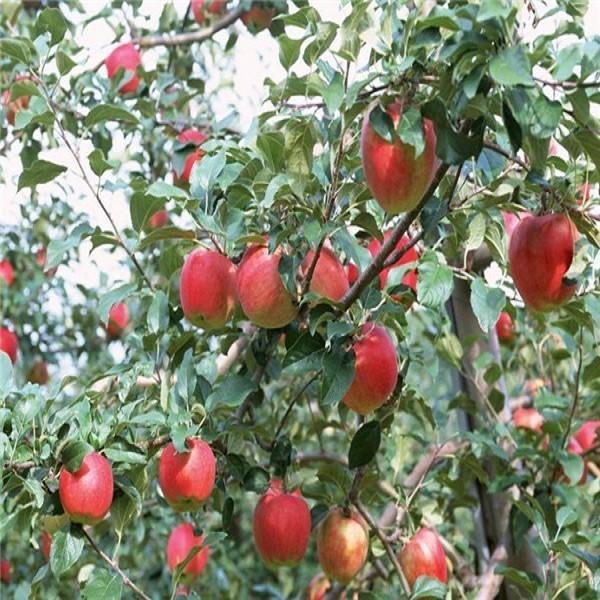apple: (359, 108, 439, 215), (505, 210, 577, 309), (340, 322, 398, 418), (235, 243, 299, 327), (177, 245, 238, 332), (250, 483, 311, 568), (154, 437, 215, 507), (58, 451, 111, 521), (317, 511, 367, 581), (397, 523, 448, 583), (167, 523, 207, 576), (179, 130, 207, 180), (239, 5, 275, 35), (105, 300, 128, 338), (193, 1, 227, 25), (1, 326, 16, 362), (150, 207, 170, 229)
